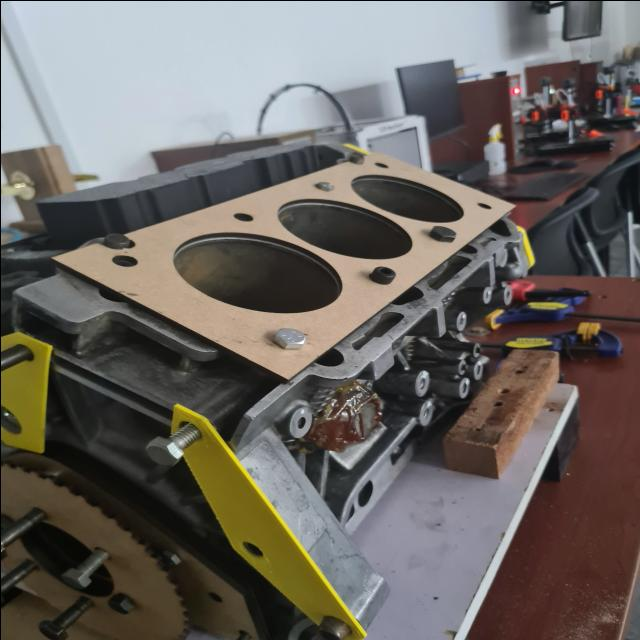vista1: (52, 151, 520, 378)
